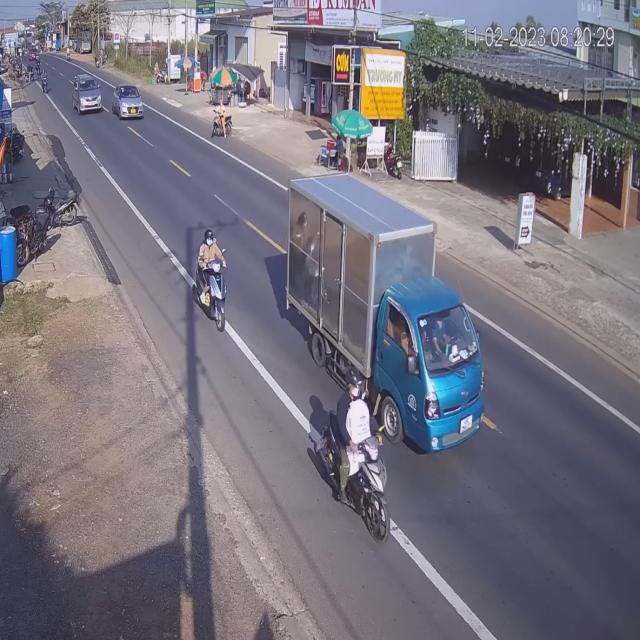car: (73, 72, 102, 114), (113, 86, 143, 122)
motorbike: (320, 393, 394, 541), (194, 225, 228, 330), (212, 97, 230, 139)
truck: (291, 165, 490, 457)
